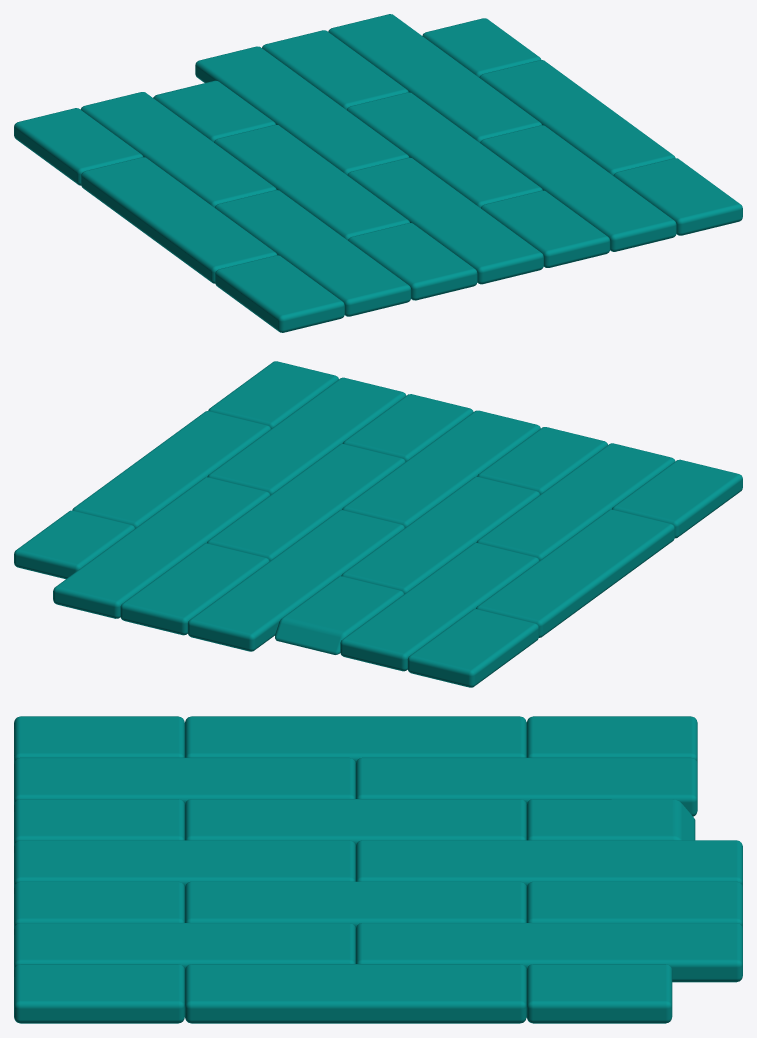
Rendered from floor01.fbx.
3 renders of one model, top to bottom at view 1: azimuth 30°, elevation 25°; view 2: azimuth 150°, elevation 25°; view 3: azimuth 270°, elevation 25°, orthographic. The views are drawn at different scales.
Parts seen in each view (by area): view 1: Cube.001; view 2: Cube.001; view 3: Cube.001.
Part boxes in pixels (x1,y1,x2,y2): Cube.001: (14, 14, 742, 332); Cube.001: (14, 361, 742, 687); Cube.001: (14, 716, 742, 1023).
Size of the model in its own units: 750 by 27.04 by 800.
